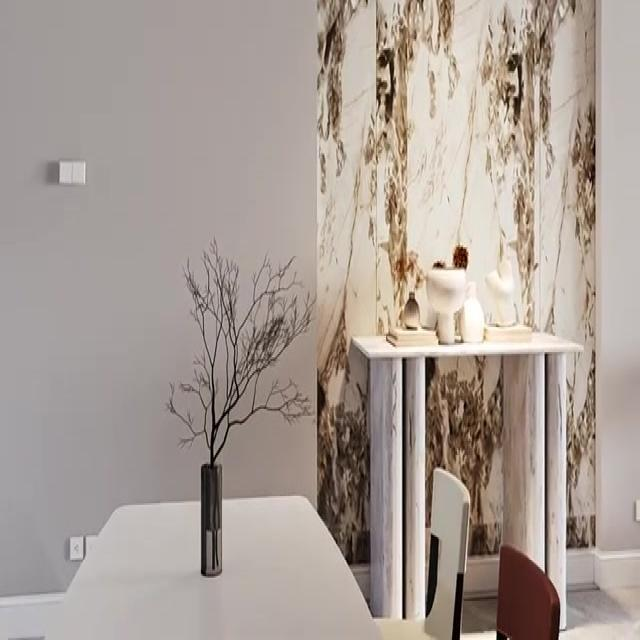obstacle: (349, 327, 583, 635), (53, 492, 382, 638), (372, 466, 470, 638), (495, 542, 560, 638)
